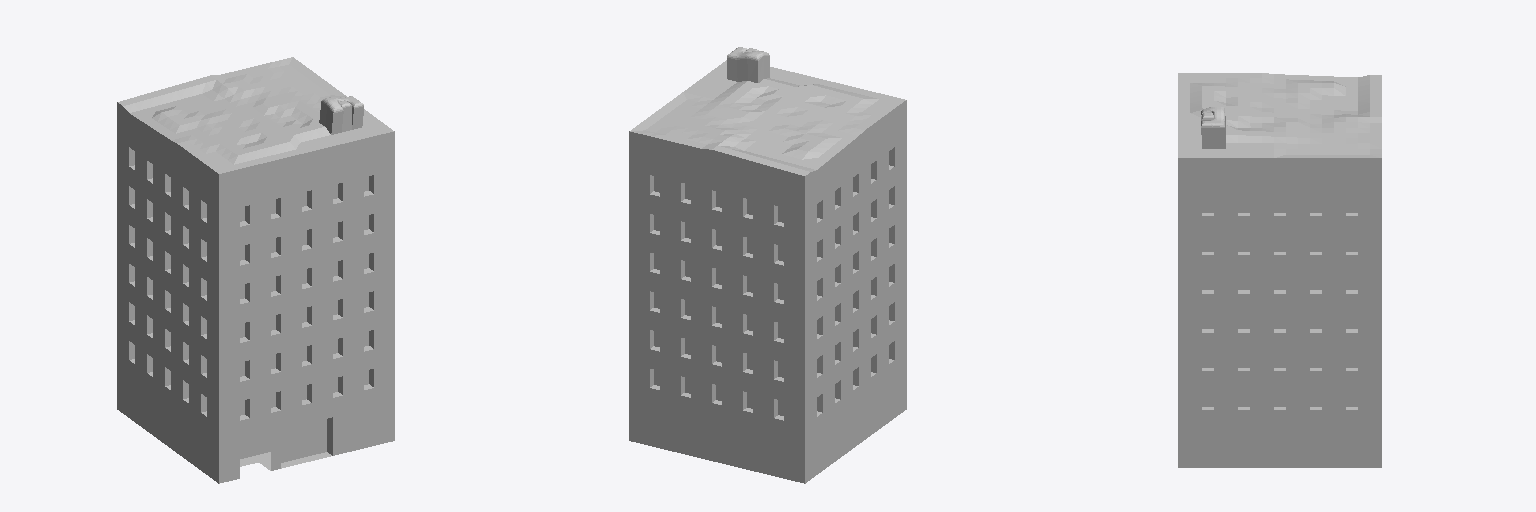
The model's file is SkyScraper3.obj.
The picture shows the model from 3 angles: view 1: azimuth 30°, elevation 25°; view 2: azimuth 150°, elevation 25°; view 3: azimuth 270°, elevation 25°; orthographic projection.
Parts seen in each view (by area): view 1: Cube; view 2: Cube; view 3: Cube.
Boxes of the visible parts, box(x1,y1,x2,y2) form: Cube: box(117, 57, 394, 483); Cube: box(629, 47, 906, 483); Cube: box(1178, 73, 1381, 467).
Bounding box in the file's own units: 2.12 × 3.9 × 2.12.